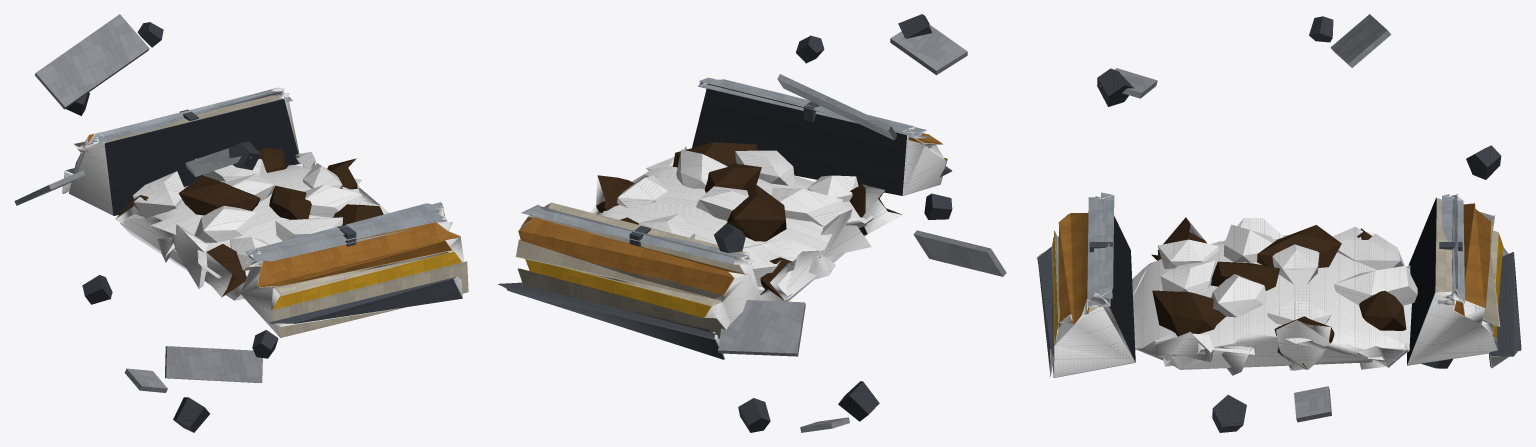
The model's file is deb_ore_freighter_hopper_lid.glb.
The picture shows the model from 3 angles, left to right: view 1: azimuth 30°, elevation 25°; view 2: azimuth 150°, elevation 25°; view 3: azimuth 270°, elevation 25°; orthographic projection. The views are drawn at different scales.
Visible parts, largest first — view 1: Hull, H0Heap, lidA_t_tear2, PipeRun_M, lidA_t_tear0, Strake_M, H0Ore6, PipeRun, H0Ore5, H0Ore7, H0Ore0, H0Ore13 (+18 smaller); view 2: Hull, H0Heap, lidA_t_tear3, Strake, PipeRun, H0Ore6, PipeRun_M, lidA_t_tear0, lidA_t_tear1, H0Ore5, lidA_t_tear2, H0Ore8 (+18 smaller); view 3: Hull, H0Heap, PipeRun_M, H0Ore12, Strake, H0Ore11, H0Ore18, PipeRun, H0Ore7, H0Ore13, H0Ore6, lidA_t_tear2 (+19 smaller).
Boxes of the visible parts, box(x1,y1,x2,y2) form: Hull: box(69, 95, 468, 337); H0Heap: box(120, 163, 389, 300); lidA_t_tear2: box(35, 14, 149, 109); PipeRun_M: box(244, 202, 447, 264); lidA_t_tear0: box(165, 346, 262, 382); Strake_M: box(266, 276, 462, 326); H0Ore6: box(178, 175, 260, 215); PipeRun: box(88, 87, 292, 145); H0Ore5: box(194, 205, 256, 242); H0Ore7: box(133, 171, 184, 218); H0Ore0: box(206, 244, 246, 297); H0Ore13: box(303, 185, 361, 217); Hull: box(515, 83, 947, 339); H0Heap: box(591, 165, 873, 301); lidA_t_tear3: box(718, 300, 805, 356); Strake: box(498, 282, 724, 359); PipeRun: box(521, 204, 753, 264); H0Ore6: box(727, 183, 786, 241); PipeRun_M: box(698, 77, 931, 138); lidA_t_tear0: box(913, 230, 1006, 276); lidA_t_tear1: box(890, 24, 967, 75); H0Ore5: box(771, 187, 842, 226); lidA_t_tear2: box(777, 74, 897, 140); H0Ore8: box(735, 150, 794, 185); Hull: box(1051, 197, 1503, 377); H0Heap: box(1132, 234, 1411, 369); PipeRun_M: box(1087, 192, 1114, 307); H0Ore12: box(1152, 290, 1225, 336); Strake: box(1489, 252, 1521, 368); H0Ore11: box(1334, 265, 1417, 305); H0Ore18: box(1274, 316, 1334, 370); PipeRun: box(1438, 194, 1464, 305); H0Ore7: box(1332, 226, 1404, 270); H0Ore13: box(1211, 274, 1266, 317); H0Ore6: box(1257, 225, 1341, 267); lidA_t_tear2: box(1330, 14, 1391, 67).
Size of the model in its own units: 24.94 by 30.57 by 32.22.
12 materials, 12 textured.
